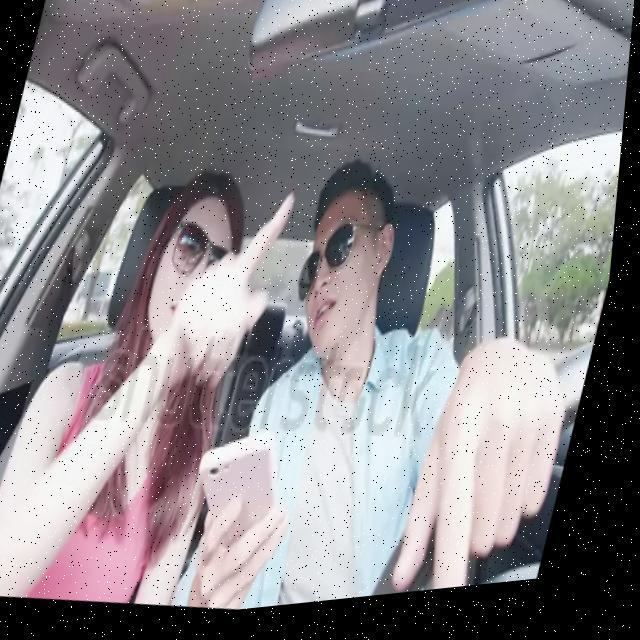PhoneCall: (188, 430, 301, 572)
